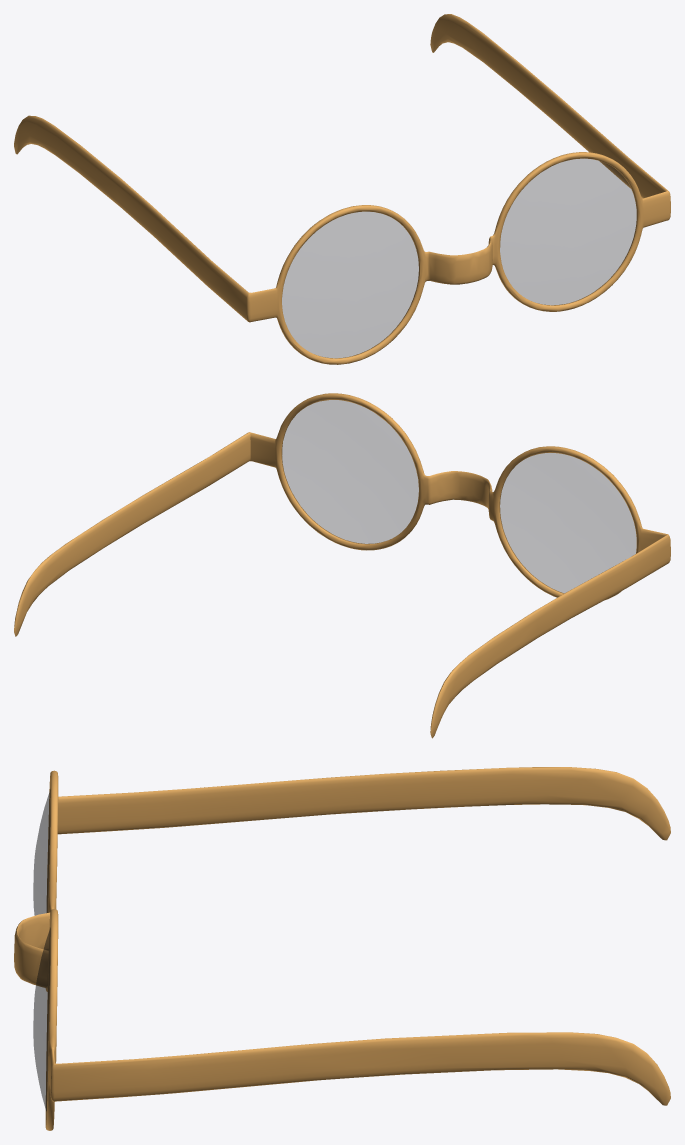
The model's file is eyewear-glasses-yellow-e5fa7006.glb.
3 renders of one model, top to bottom at view 1: azimuth 30°, elevation 25°; view 2: azimuth 150°, elevation 25°; view 3: azimuth 270°, elevation 25°, orthographic. The views are drawn at different scales.
Visible parts, largest first — view 1: Geo_Black_Older_Female_Glasses_Yellow.001; view 2: Geo_Black_Older_Female_Glasses_Yellow.001; view 3: Geo_Black_Older_Female_Glasses_Yellow.001.
Part boxes in pixels (left/top/right/bottom): Geo_Black_Older_Female_Glasses_Yellow.001: left=14, top=14, right=670, bottom=364; Geo_Black_Older_Female_Glasses_Yellow.001: left=14, top=393, right=670, bottom=738; Geo_Black_Older_Female_Glasses_Yellow.001: left=14, top=767, right=670, bottom=1130.
Bounding box in the file's own units: 1.42 × 0.493 × 1.46.
